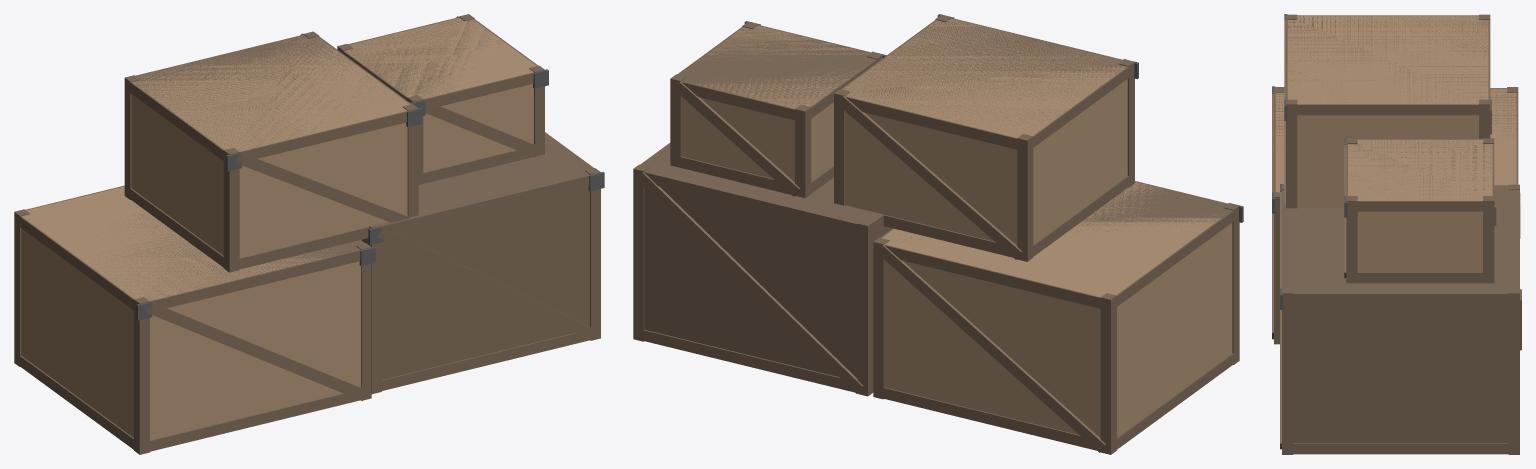
File: CoverCrates.glb
3 renders of one model, left to right at view 1: azimuth 30°, elevation 25°; view 2: azimuth 150°, elevation 25°; view 3: azimuth 270°, elevation 25°, orthographic. The views are drawn at different scales.
Parts seen in each view (by area): view 1: CoverCrates_cube, CoverCrates_cube.022, CoverCrates_cube.011, CoverCrates_cube.033, CoverCrates_cube.028, CoverCrates_cube.006, CoverCrates_cube.039, CoverCrates_cube.017, CoverCrates_cube.005, CoverCrates_cube.018, CoverCrates_cube.007, CoverCrates_cube.027 (+13 smaller); view 2: CoverCrates_cube, CoverCrates_cube.022, CoverCrates_cube.011, CoverCrates_cube.028, CoverCrates_cube.033, CoverCrates_cube.039, CoverCrates_cube.006, CoverCrates_cube.017, CoverCrates_cube.005, CoverCrates_cube.019, CoverCrates_cube.008, CoverCrates_cube.030 (+14 smaller); view 3: CoverCrates_cube.011, CoverCrates_cube.022, CoverCrates_cube.033, CoverCrates_cube.017, CoverCrates_cube.028, CoverCrates_cube, CoverCrates_cube.039, CoverCrates_cube.016, CoverCrates_cube.015, CoverCrates_cube.014, CoverCrates_cube.038, CoverCrates_cube.025 (+9 smaller).
Boxes of the visible parts, box(x1,y1,x2,y2) form: CoverCrates_cube: box(21, 186, 360, 440); CoverCrates_cube.022: box(131, 35, 409, 257); CoverCrates_cube.011: box(361, 133, 592, 379); CoverCrates_cube.033: box(345, 18, 536, 172); CoverCrates_cube.028: box(125, 35, 411, 161); CoverCrates_cube.006: box(17, 185, 364, 310); CoverCrates_cube.039: box(337, 17, 537, 106); CoverCrates_cube.017: box(369, 132, 593, 233); CoverCrates_cube.005: box(14, 352, 359, 451); CoverCrates_cube.018: box(377, 227, 597, 340); CoverCrates_cube.007: box(146, 301, 367, 401); CoverCrates_cube.027: box(126, 186, 369, 271); CoverCrates_cube: box(882, 181, 1232, 437); CoverCrates_cube.022: box(842, 18, 1127, 245); CoverCrates_cube.011: box(644, 187, 892, 378); CoverCrates_cube.028: box(841, 18, 1134, 149); CoverCrates_cube.033: box(681, 26, 870, 182); CoverCrates_cube.039: box(670, 25, 877, 122); CoverCrates_cube.006: box(875, 181, 1233, 310); CoverCrates_cube.017: box(640, 143, 884, 237); CoverCrates_cube.005: box(883, 349, 1239, 453); CoverCrates_cube.019: box(637, 172, 862, 393); CoverCrates_cube.008: box(877, 244, 1105, 452); CoverCrates_cube.030: box(838, 96, 1021, 259); CoverCrates_cube.011: box(1284, 213, 1518, 443); CoverCrates_cube.022: box(1287, 16, 1488, 207); CoverCrates_cube.033: box(1348, 139, 1492, 272); CoverCrates_cube.017: box(1282, 185, 1519, 304); CoverCrates_cube.028: box(1286, 15, 1490, 115); CoverCrates_cube: box(1275, 88, 1516, 192); CoverCrates_cube.039: box(1346, 139, 1494, 211); CoverCrates_cube.016: box(1282, 443, 1519, 454); CoverCrates_cube.015: box(1508, 288, 1519, 454); CoverCrates_cube.014: box(1282, 288, 1293, 454); CoverCrates_cube.038: box(1346, 272, 1494, 283); CoverCrates_cube.025: box(1286, 99, 1297, 208).
Size of the model in its own units: 3.29 by 1.82 by 1.55.
